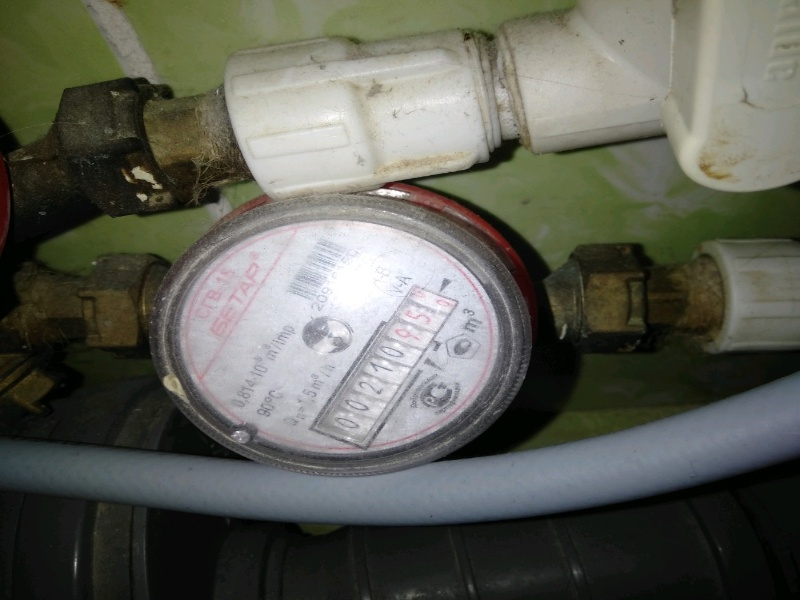meter: (342, 293, 464, 460)
